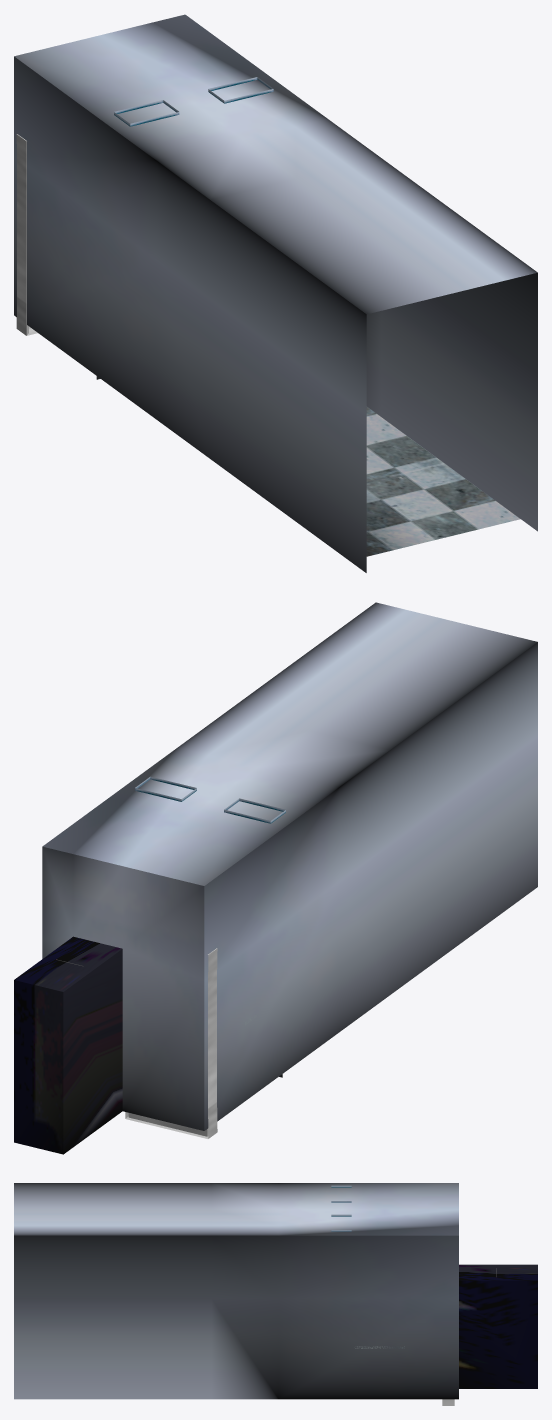
The model's file is shopver5.gltf.
3 renders of one model, top to bottom at view 1: azimuth 30°, elevation 25°; view 2: azimuth 150°, elevation 25°; view 3: azimuth 270°, elevation 25°, orthographic. The views are drawn at different scales.
Visible parts, largest first — view 1: room; view 2: room; view 3: room.
Boxes of the visible parts, x1,y1,x2,y2 form: room: (14, 14, 537, 572); room: (14, 602, 537, 1154); room: (14, 1183, 537, 1405).
Bounding box in the file's own units: 5.56 × 8.43 × 23.25.
8 materials, 7 textured.
